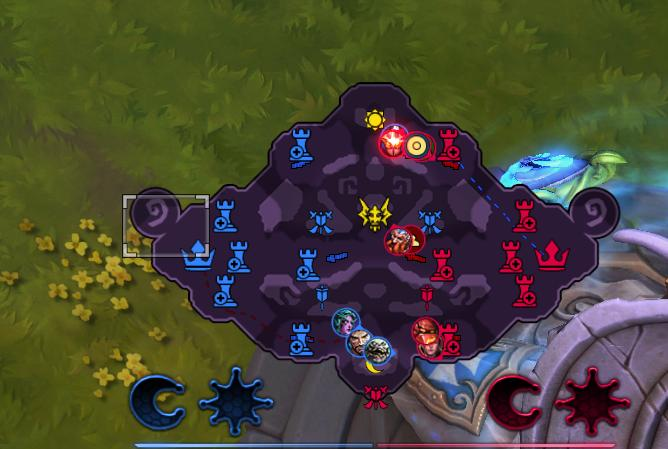blue nexus: (178, 238, 214, 271)
blue player: (362, 336, 393, 366), (345, 328, 373, 357), (331, 308, 358, 337)
blue tower: (287, 126, 313, 169), (211, 273, 239, 308), (287, 321, 314, 356), (211, 198, 238, 232), (294, 246, 319, 281), (226, 239, 251, 274)
red nexus: (533, 238, 569, 271)
red player: (377, 124, 408, 158), (413, 328, 445, 359), (402, 130, 432, 162), (411, 316, 440, 347), (383, 226, 411, 255), (400, 224, 426, 254)
red tower: (436, 126, 461, 167), (435, 321, 461, 358), (511, 273, 537, 307), (511, 198, 537, 232), (498, 239, 523, 273), (429, 247, 454, 281)
